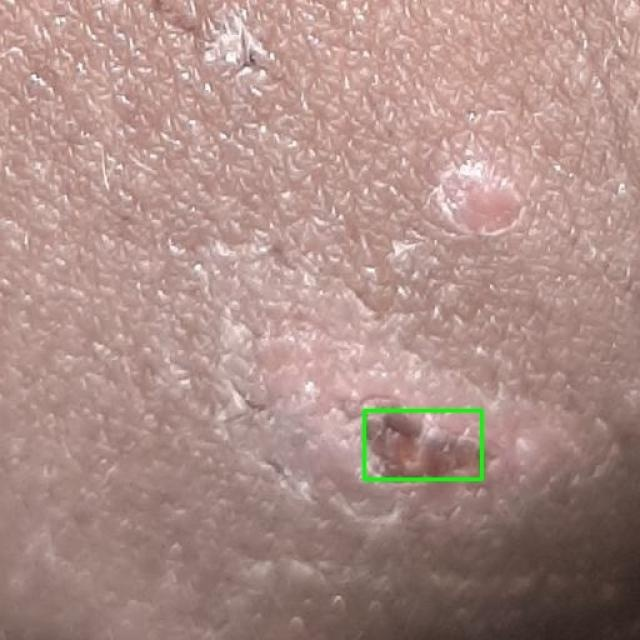Contact Dermatitis: (364, 410, 481, 479)
